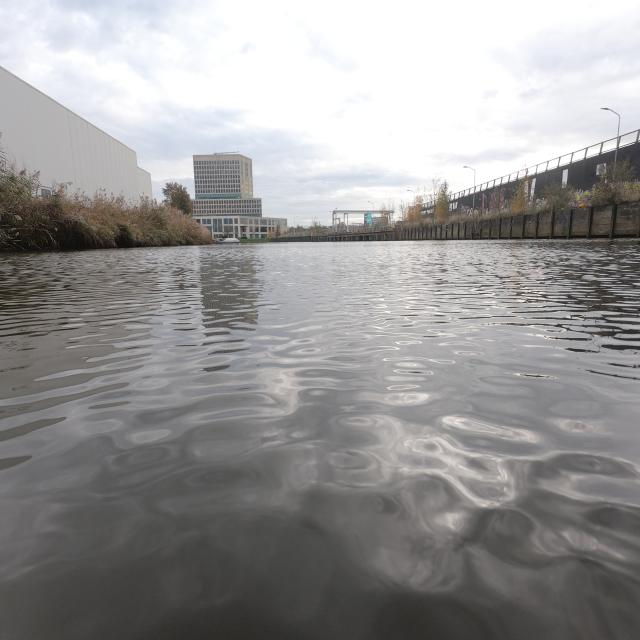boat: (214, 237, 240, 245)
reed: (0, 164, 212, 250)
wall: (479, 205, 640, 239), (401, 224, 476, 240)
water: (0, 237, 640, 640)
